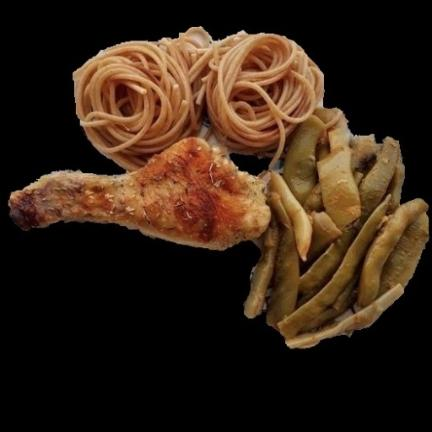chicken: (10, 138, 270, 250)
green_beans: (248, 108, 428, 347)
pasta: (73, 28, 323, 170)
